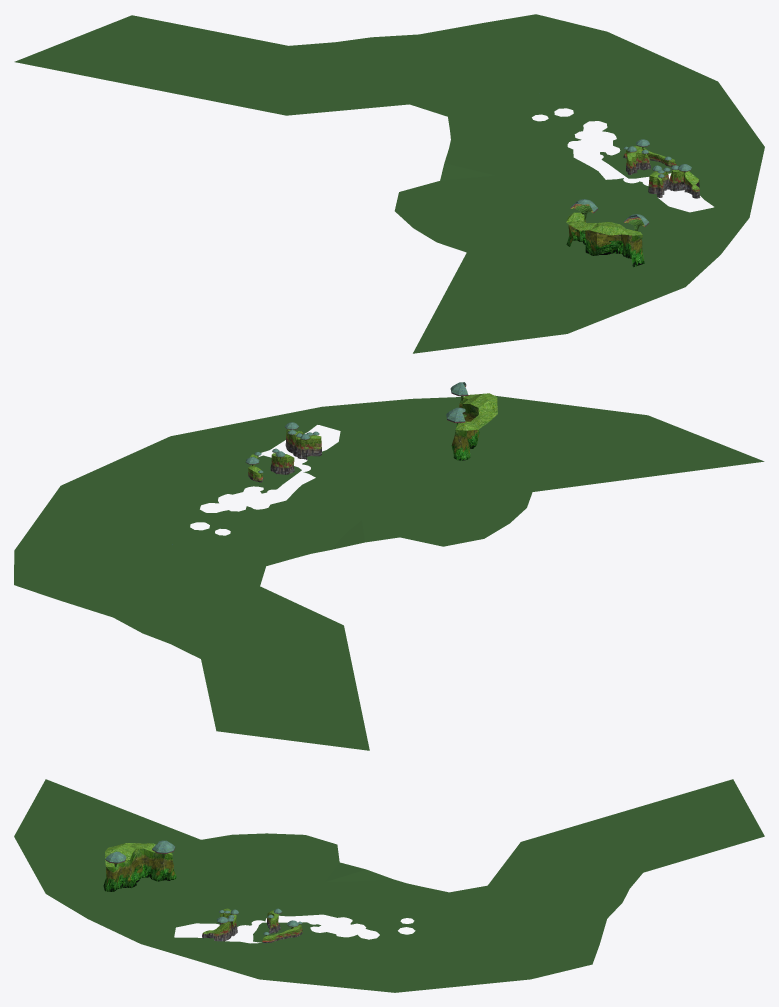
File: Lost Jungle 12.obj
3 renders of one model, top to bottom at view 1: azimuth 30°, elevation 25°; view 2: azimuth 150°, elevation 25°; view 3: azimuth 270°, elevation 25°, orthographic. The views are drawn at different scales.
Visible parts, largest first — view 1: Object_2; view 2: Object_2; view 3: Object_2.
Boxes of the visible parts, x1,y1,x2,y2 form: Object_2: [14, 14, 764, 353]; Object_2: [14, 382, 764, 750]; Object_2: [14, 779, 764, 992].
Bounding box in the file's own units: 17366 × 1584 × 25783.
10 materials, 10 textured.
